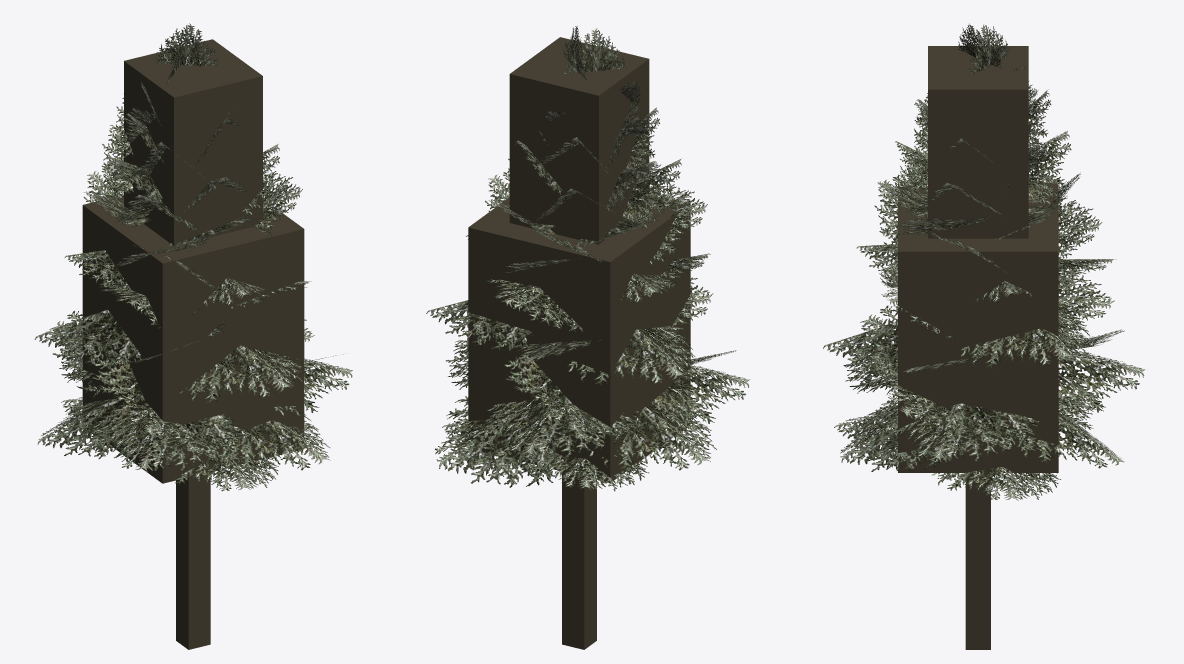
Rendered from OZ_00_hd_tree03E.glb.
3 views of the same model, side by side, from view 1: azimuth 30°, elevation 25°; view 2: azimuth 150°, elevation 25°; view 3: azimuth 270°, elevation 25° (orthographic).
Parts seen in each view (by area): view 1: OM_00_hd_tree03E; view 2: OM_00_hd_tree03E; view 3: OM_00_hd_tree03E.
Boxes of the visible parts, x1=… form: OM_00_hd_tree03E: x1=34, y1=23, x2=352, y2=649; OM_00_hd_tree03E: x1=426, y1=26, x2=750, y2=649; OM_00_hd_tree03E: x1=823, y1=23, x2=1144, y2=649.
Bounding box in the file's own units: 12 × 22.4 × 11.84.
Materials: 5 (5 with a texture image).
